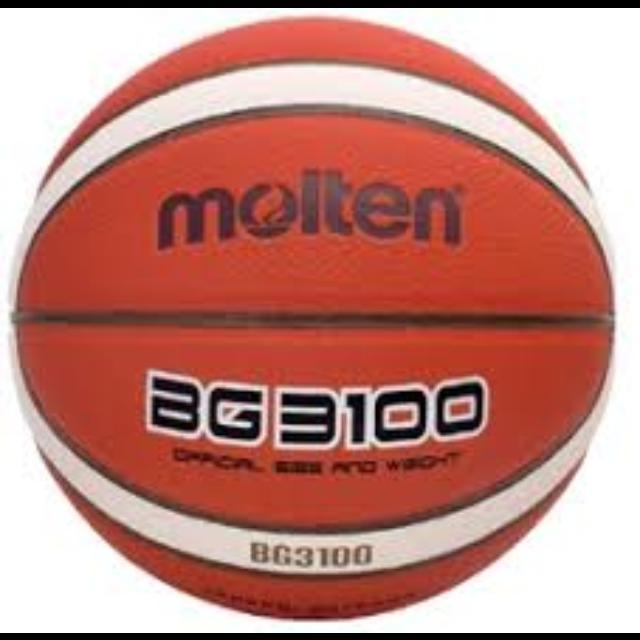basketball: (17, 22, 611, 616)
